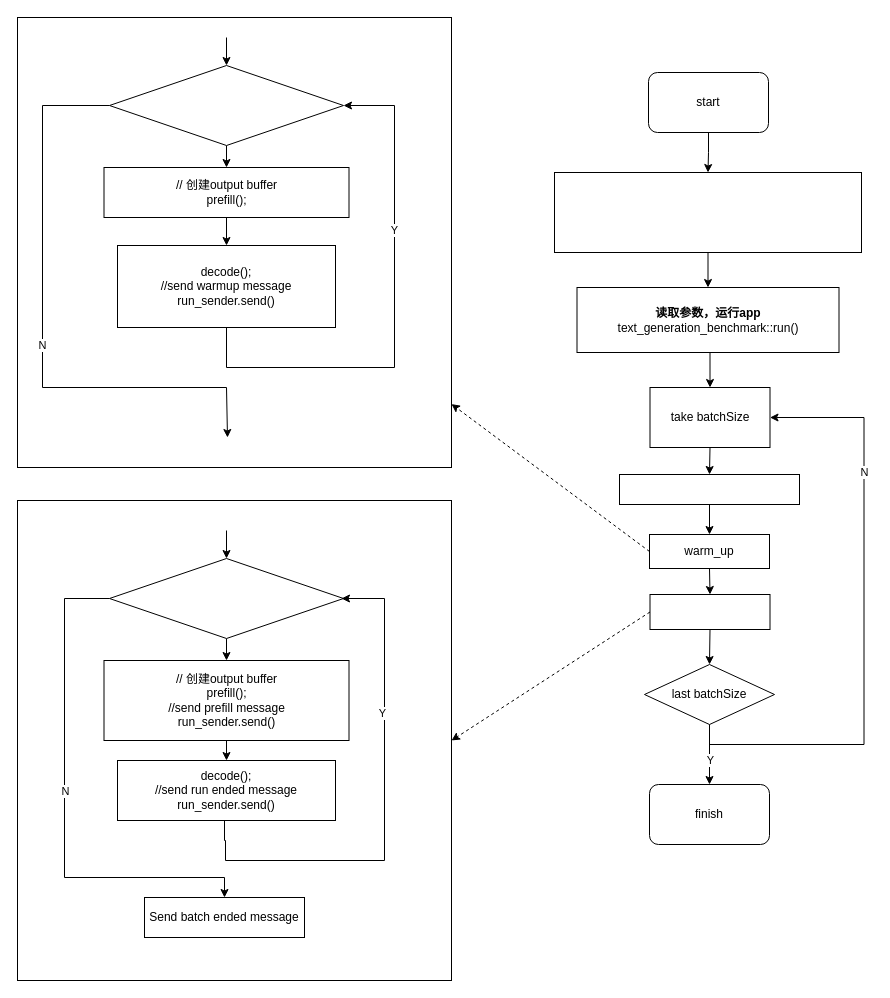
Some shapes in this 890 by 998 pixel diagram are drawn without their labels. The centre of each missing label's shape, as x and y in pixels:
"_ < n_runs" belongs at (x=226, y=598).
"_ < warm_up" belongs at (x=226, y=105).
"prepare input buffer" belongs at (x=709, y=489).
"test" belongs at (x=709, y=612).
"基于模型启动服务端 text-generation-launcher" belongs at (x=708, y=212).
